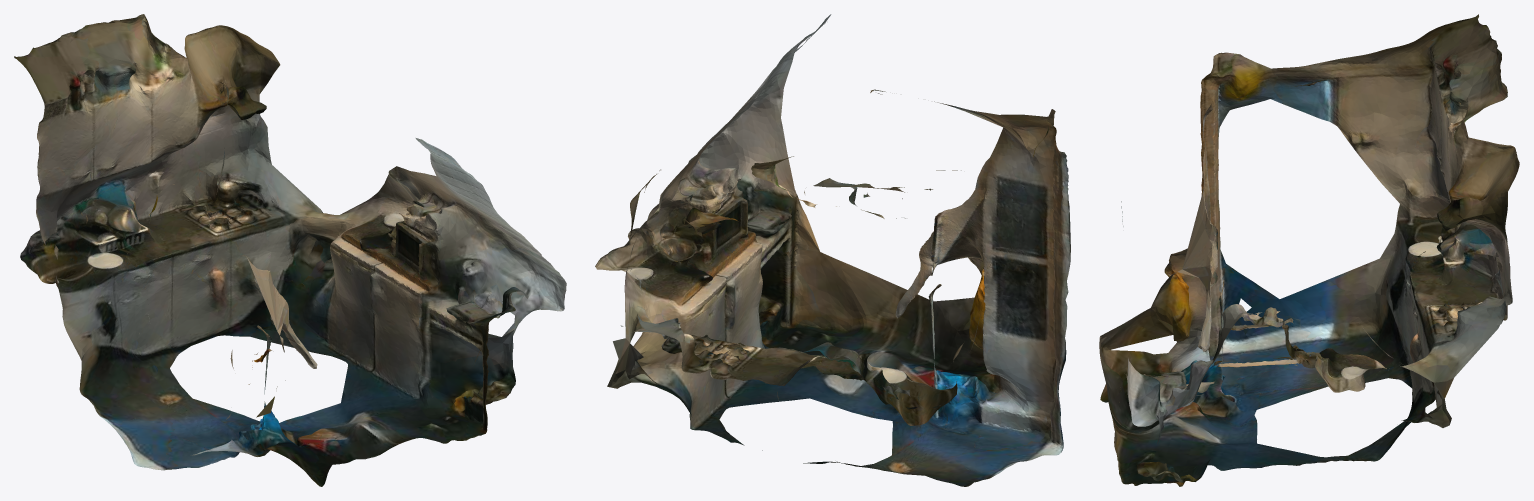
3 renders of one model, left to right at view 1: azimuth 30°, elevation 25°; view 2: azimuth 150°, elevation 25°; view 3: azimuth 270°, elevation 25°, orthographic. The views are drawn at different scales.
Size of the model in its own units: 2.76 by 2.27 by 2.6.
Materials: 1 (1 with a texture image).
